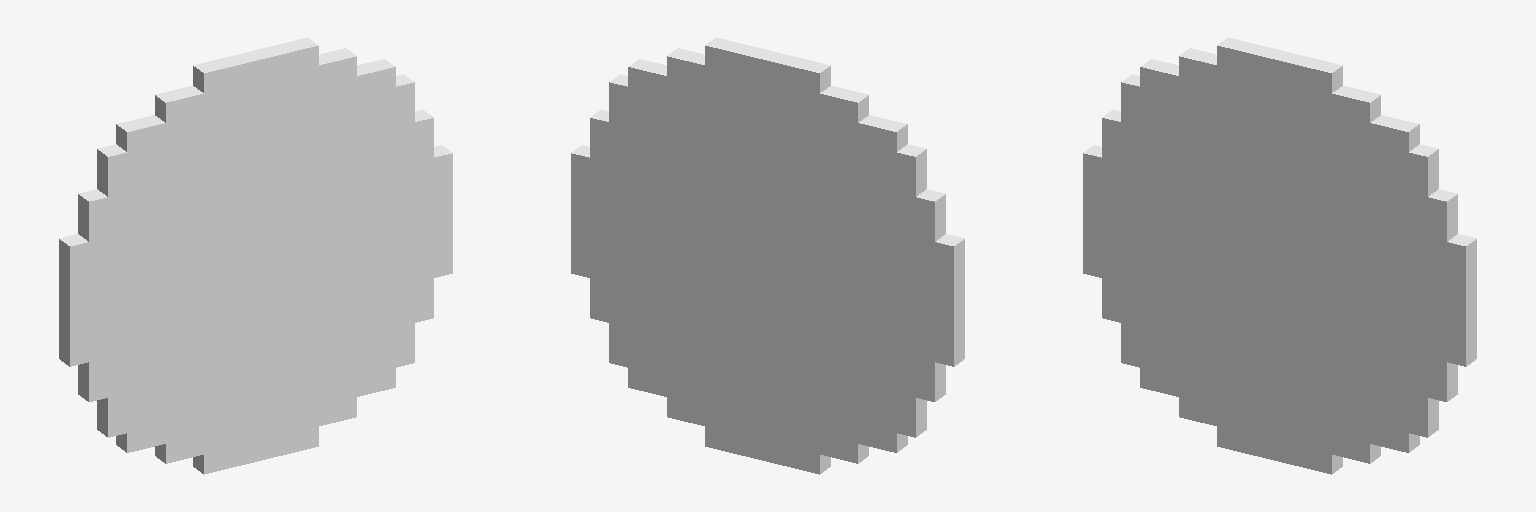
Rendered from GodBullet.obj.
3 renders of one model, left to right at view 1: azimuth 30°, elevation 25°; view 2: azimuth 150°, elevation 25°; view 3: azimuth 330°, elevation 25°, orthographic.
Visible parts, largest first — view 1: object 1; view 2: object 1; view 3: object 1.
Boxes of the visible parts, x1,y1,x2,y2 form: object 1: [59, 37, 452, 474]; object 1: [571, 37, 964, 474]; object 1: [1083, 37, 1476, 474].
Size of the model in its own units: 2 by 2 by 0.1.